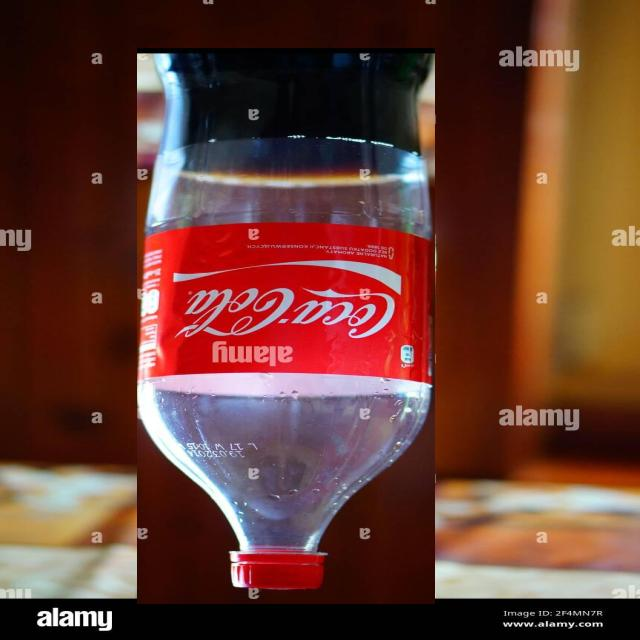coca-cola: (137, 48, 436, 604)
